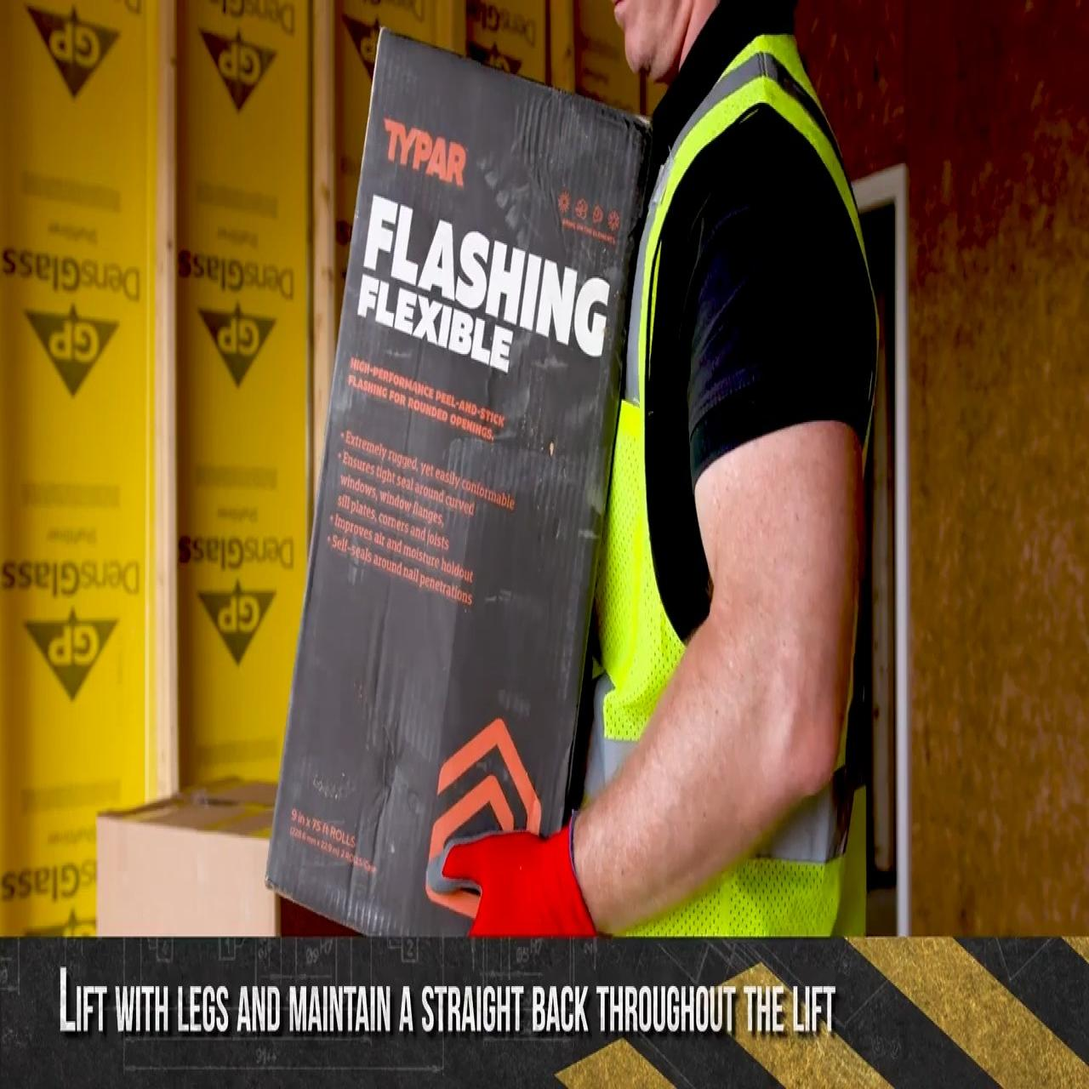Person: (426, 0, 881, 935)
Safety_Vest: (574, 30, 879, 933)
